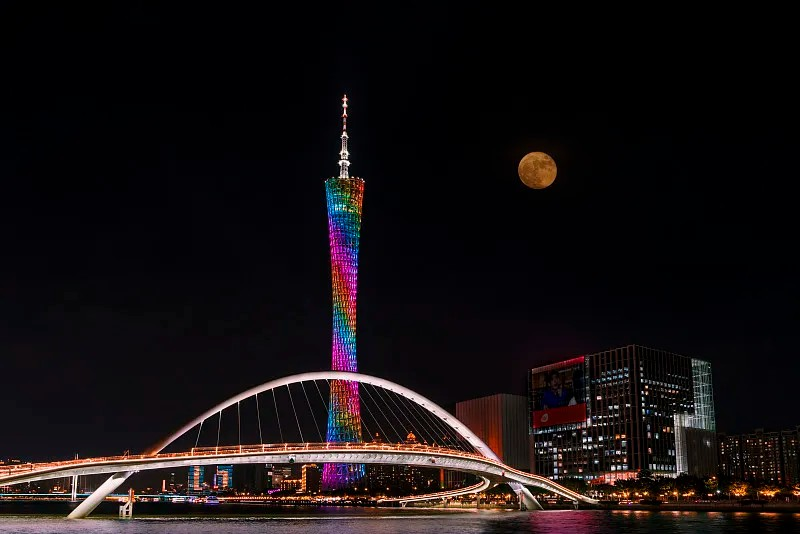Canton: (318, 86, 368, 492)
